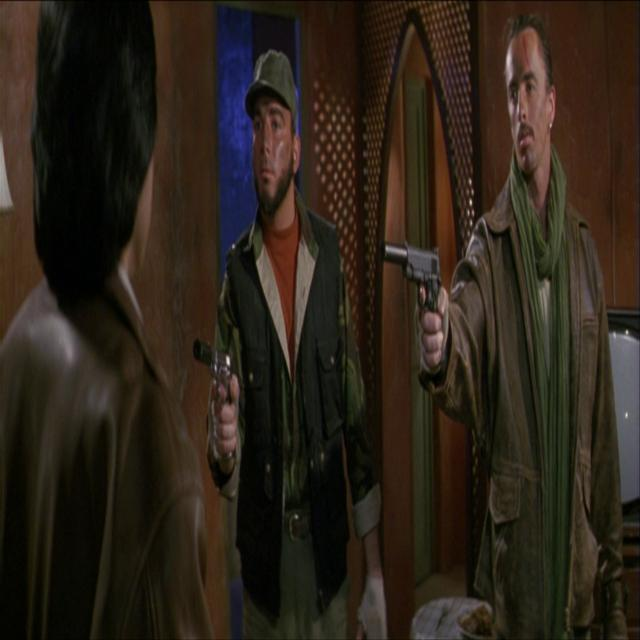gun-knife-thesis - v11 Yolov5 augmented: (374, 231, 452, 397), (188, 328, 247, 491)
